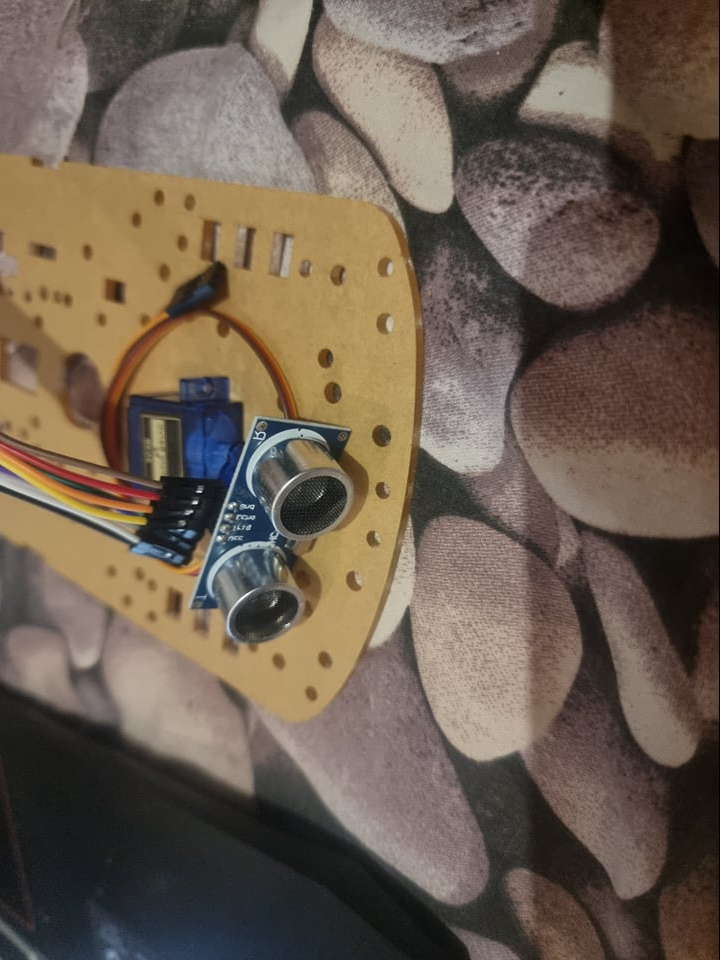SENSOR: (189, 415, 360, 646)
